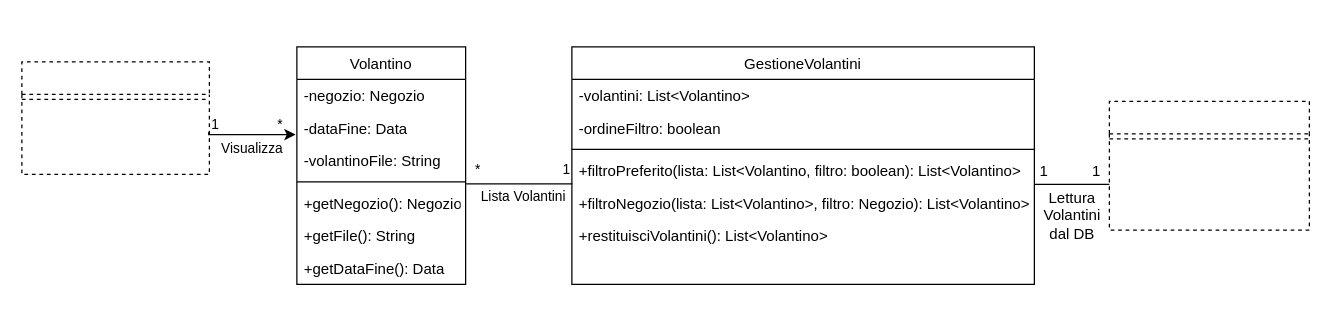
The diagram is 1331 pixels wide and 309 high, and some of its shapes have lost their labels. Each missing label, with the centre of its shape:
"LetturaDBDati" belongs at (1208,165).
"Utente" belongs at (115,117).
